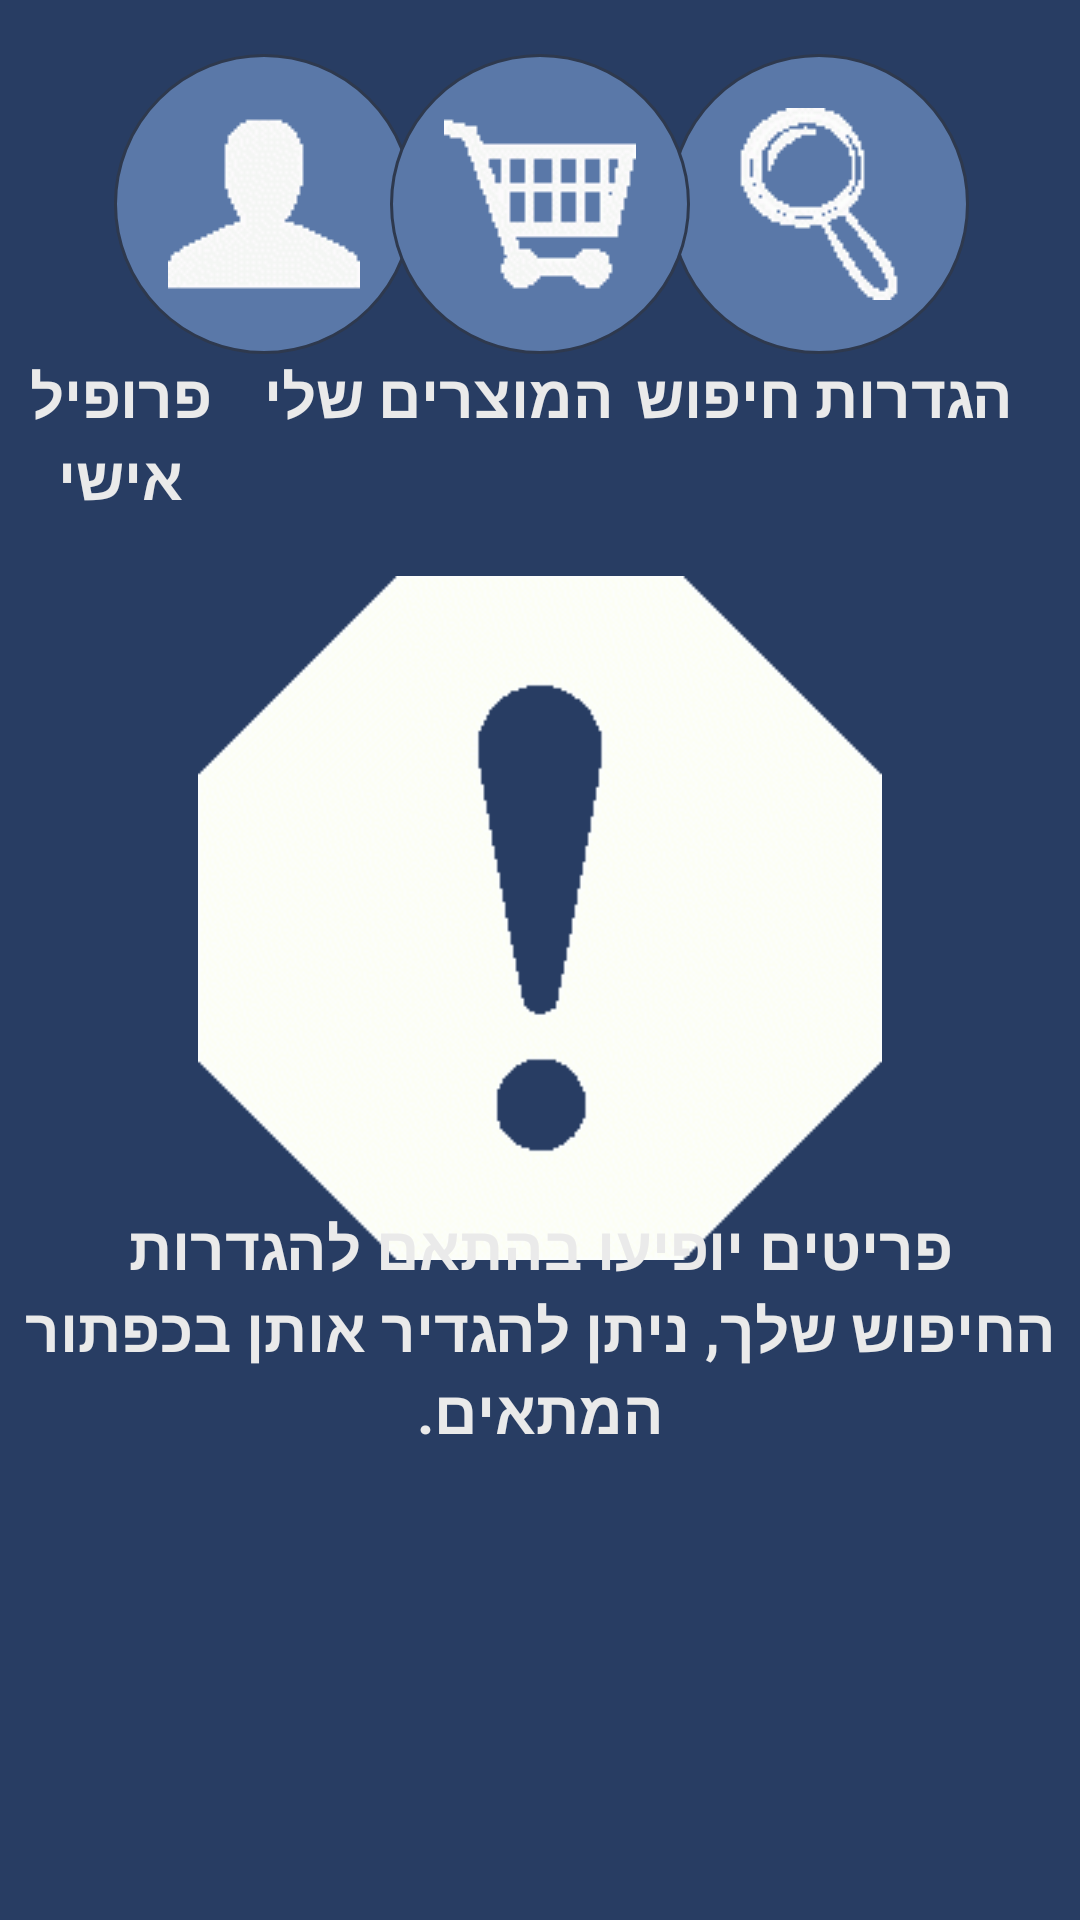

Icon bounding boxes for this 1080*1920 phone screenshot, format (x1, y1, x2, y2):
cart: (393, 57, 687, 351)
user: (117, 57, 400, 351)
